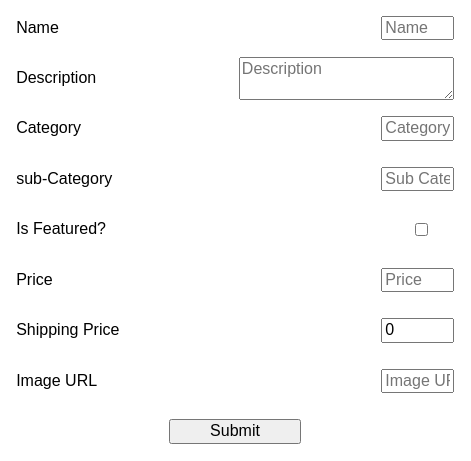
Test: fields display correct input › Description field displays correct input
Click the text box with placeholder "Description": (346,78) left=239, top=57, right=454, bottom=100
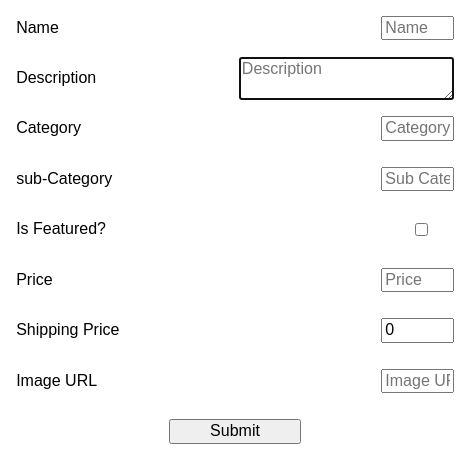
Type keys "test 123"
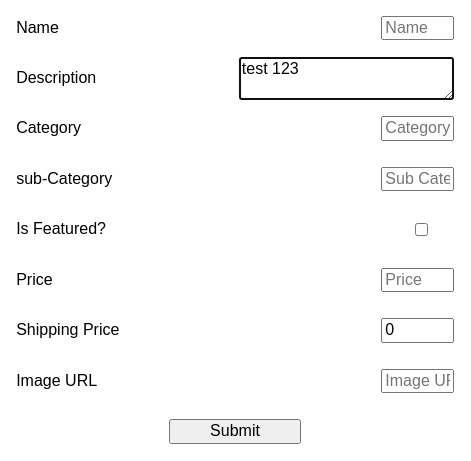
Check: the text box with placeholder "Description" holds "test 123", box left=239, top=57, right=454, bottom=100
